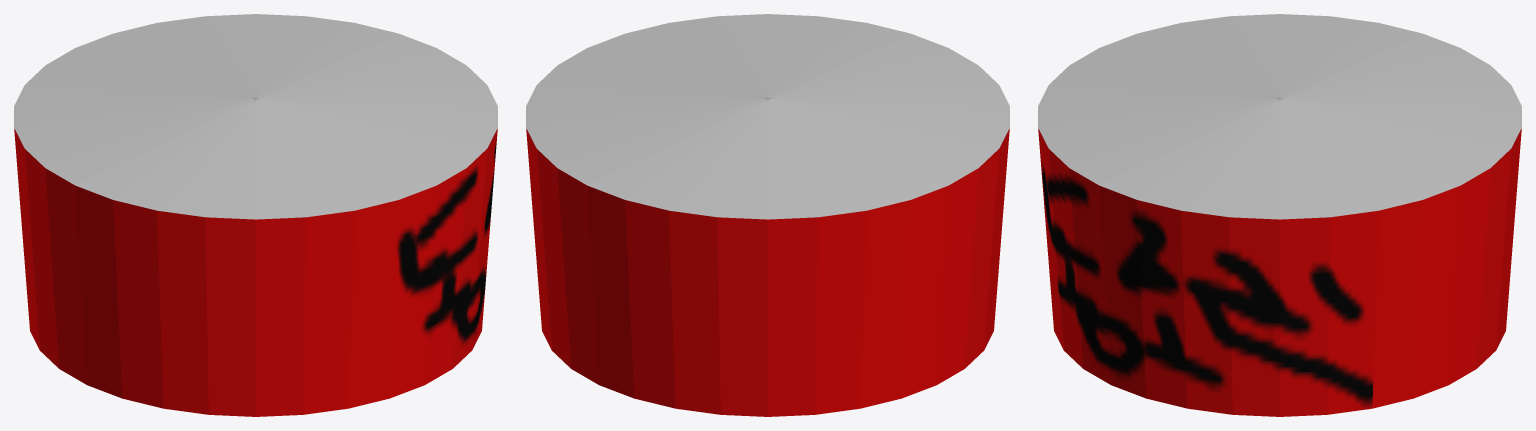
3 views of the same model, side by side, from view 1: azimuth 30°, elevation 25°; view 2: azimuth 150°, elevation 25°; view 3: azimuth 270°, elevation 25° (orthographic).
Parts seen in each view (by area): view 1: algeomath (1); view 2: algeomath (1); view 3: algeomath (1).
Part boxes in pixels (box(x1,y1,x2,y2)): algeomath (1): box(14, 14, 497, 416); algeomath (1): box(526, 14, 1009, 416); algeomath (1): box(1038, 14, 1521, 416).
Size of the model in its own units: 0.3 by 0.1512 by 0.2984.
1 material, 1 textured.
